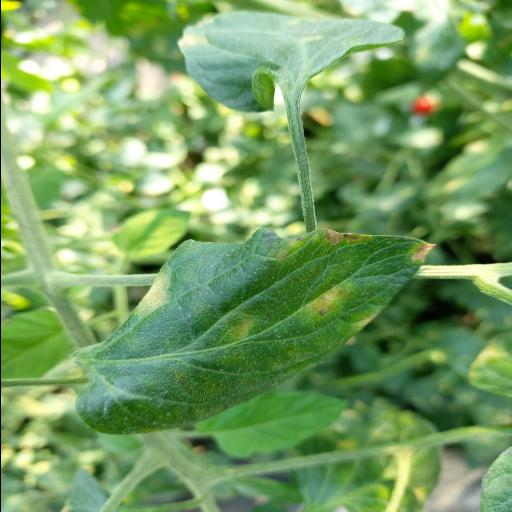Leaf Mold: (74, 227, 436, 435)
